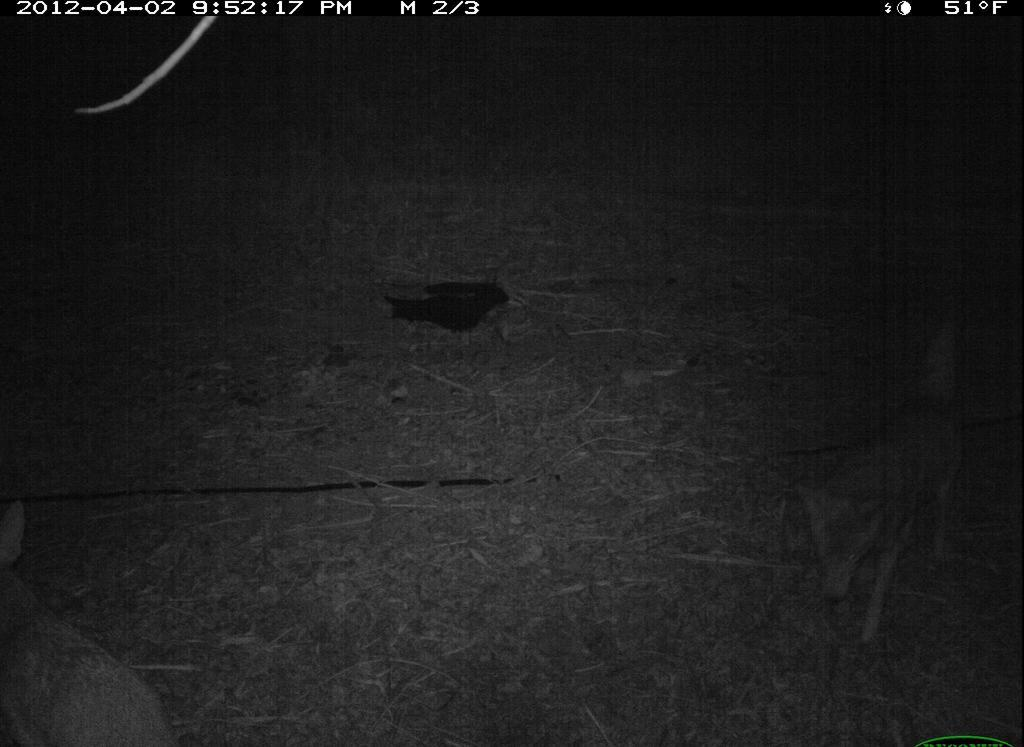coyote: (789, 295, 975, 651), (1, 501, 199, 747)
